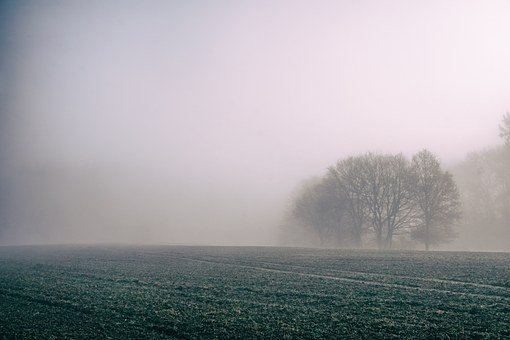field: (4, 243, 505, 340)
sky: (6, 4, 504, 249)
tree: (290, 149, 469, 252)
